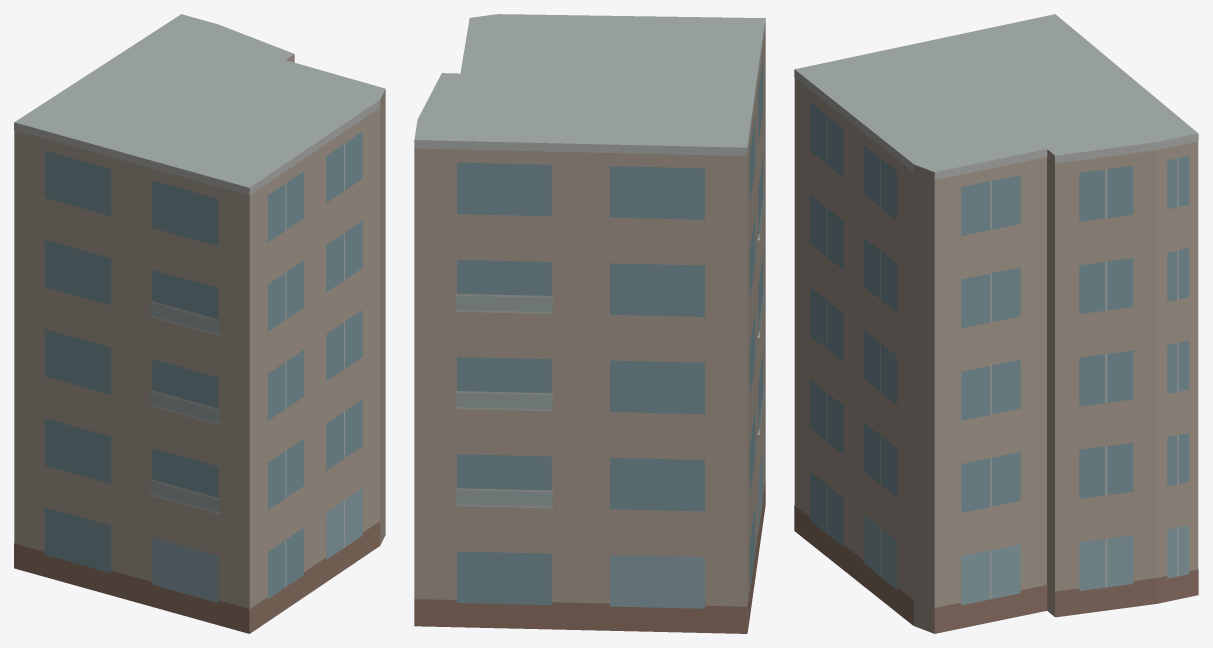
Rendered from survey-upis-33023895.glb.
The picture shows the model from 3 angles, left to right: view 1: azimuth 30°, elevation 25°; view 2: azimuth 150°, elevation 25°; view 3: azimuth 270°, elevation 25°; orthographic projection. The views are drawn at different scales.
Visible parts, largest first — view 1: survey-upis-33023895.tmp; view 2: survey-upis-33023895.tmp; view 3: survey-upis-33023895.tmp.
Boxes of the visible parts, x1,y1,x2,y2 form: survey-upis-33023895.tmp: (14, 14, 385, 633); survey-upis-33023895.tmp: (414, 14, 765, 633); survey-upis-33023895.tmp: (794, 14, 1198, 633).
Size of the model in its own units: 10.33 by 14.05 by 11.15.
